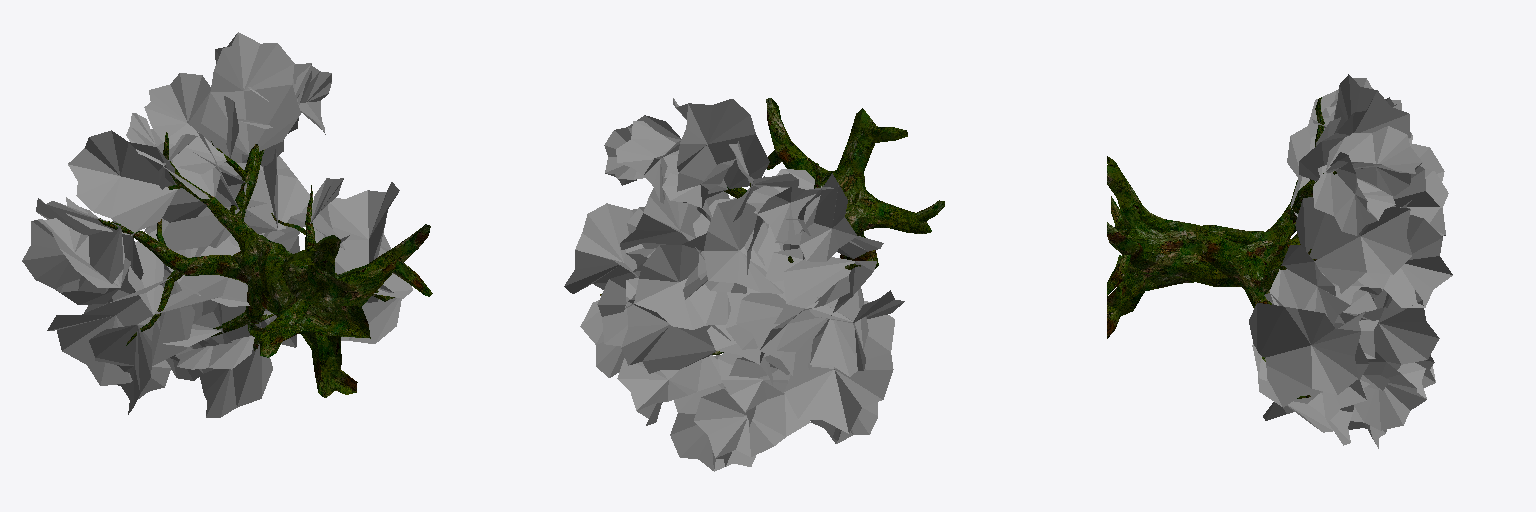
3 views of the same model, side by side, from view 1: azimuth 30°, elevation 25°; view 2: azimuth 150°, elevation 25°; view 3: azimuth 270°, elevation 25° (orthographic).
Parts seen in each view (by area): view 1: A_Twist00OutsideNormalOriginalModel_032__Mt_Treeleaf_00, WoodTest__Mt_Wood_MossWood_A, B_Twist00OutsideNormalOriginalModel_01__Mt_Treeleaf_01; view 2: A_Twist00OutsideNormalOriginalModel_032__Mt_Treeleaf_00, B_Twist00OutsideNormalOriginalModel_01__Mt_Treeleaf_01, WoodTest__Mt_Wood_MossWood_A; view 3: A_Twist00OutsideNormalOriginalModel_032__Mt_Treeleaf_00, WoodTest__Mt_Wood_MossWood_A, B_Twist00OutsideNormalOriginalModel_01__Mt_Treeleaf_01.
Boxes of the visible parts, box(x1,y1,x2,y2) form: A_Twist00OutsideNormalOriginalModel_032__Mt_Treeleaf_00: box(22, 32, 412, 417); WoodTest__Mt_Wood_MossWood_A: box(98, 132, 432, 397); B_Twist00OutsideNormalOriginalModel_01__Mt_Treeleaf_01: box(89, 113, 299, 414); A_Twist00OutsideNormalOriginalModel_032__Mt_Treeleaf_00: box(564, 98, 904, 471); B_Twist00OutsideNormalOriginalModel_01__Mt_Treeleaf_01: box(621, 150, 877, 443); WoodTest__Mt_Wood_MossWood_A: box(600, 98, 944, 354); A_Twist00OutsideNormalOriginalModel_032__Mt_Treeleaf_00: box(1249, 74, 1448, 448); WoodTest__Mt_Wood_MossWood_A: box(1107, 97, 1336, 398); B_Twist00OutsideNormalOriginalModel_01__Mt_Treeleaf_01: box(1290, 99, 1452, 390).
Bounding box in the file's own units: 21.54 × 22.59 × 19.42.
4 materials, 1 textured.